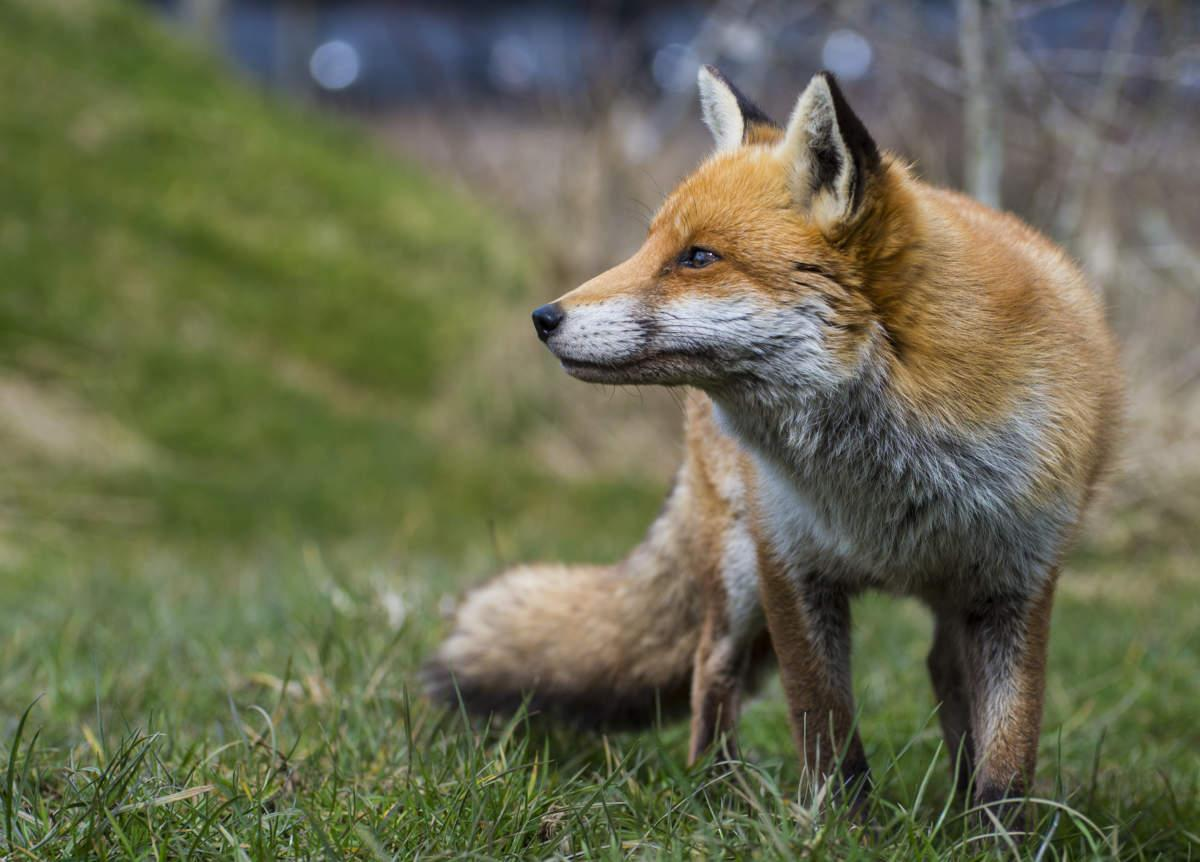fox: (428, 55, 1132, 842)
